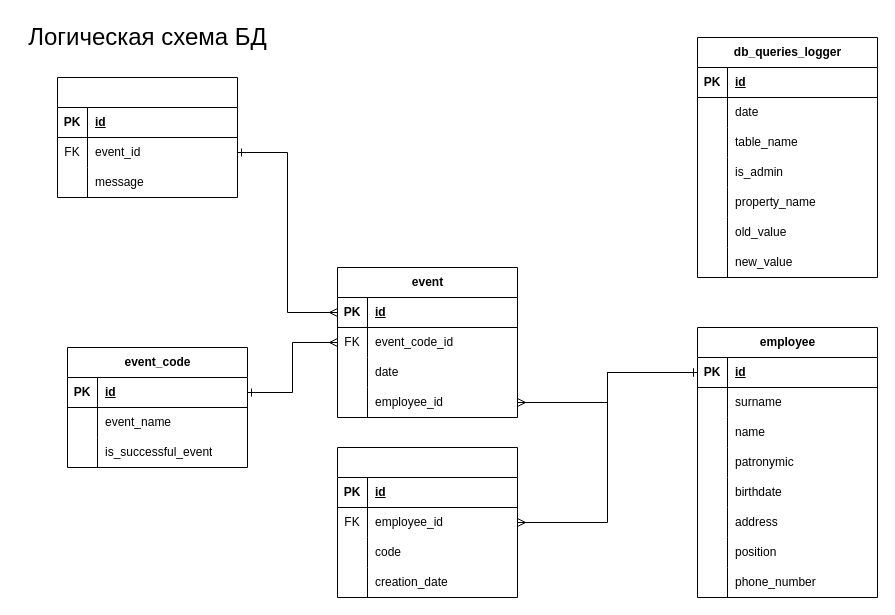
Image size: 895x615. Some labels were removed from this diagram. Each missing label, with the box of its shape:
entrance_code: (336, 446, 518, 598)
entrances_logger: (56, 76, 238, 198)
